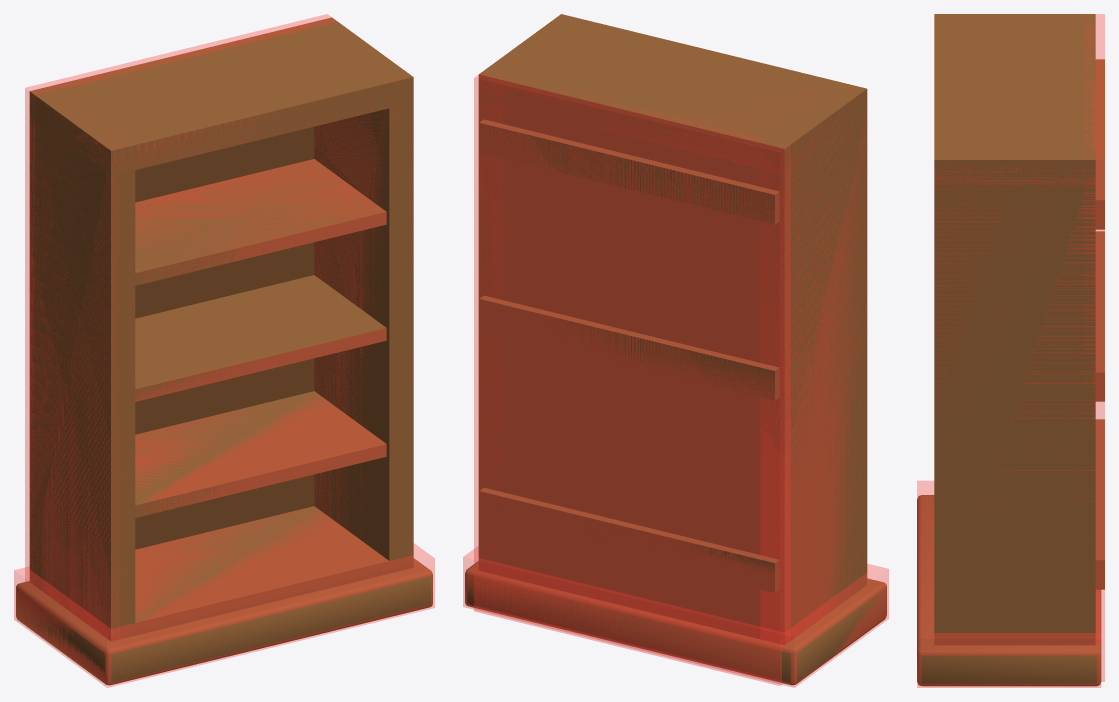
File: BookshelfS05.glb
3 views of the same model, side by side, from view 1: azimuth 30°, elevation 25°; view 2: azimuth 150°, elevation 25°; view 3: azimuth 270°, elevation 25° (orthographic). The views are drawn at different scales.
Parts seen in each view (by area): view 1: Body_Wood, Col_Base, Body_BackInside, Col_SideLeft, Col_Shelf1, Col_Shelf3, Col_SideRight, Col_Back, Col_Shelf2, Col_Top; view 2: Body_Wood, Col_Back, Col_SideLeft, Col_Base; view 3: Body_Wood, Col_Base, Col_Back, Col_SideRight, Col_Top.
Boxes of the visible parts, x1,y1,x2,y2 form: Body_Wood: [16, 17, 432, 685]; Col_Base: [14, 508, 434, 687]; Body_BackInside: [135, 126, 314, 549]; Col_SideLeft: [30, 87, 126, 640]; Col_Shelf1: [135, 394, 386, 516]; Col_Shelf3: [135, 159, 386, 281]; Col_SideRight: [314, 108, 398, 525]; Col_Back: [25, 14, 337, 581]; Col_Shelf2: [135, 328, 386, 401]; Col_Top: [43, 83, 389, 174]; Body_Wood: [465, 14, 886, 685]; Col_Back: [474, 74, 790, 685]; Col_SideLeft: [760, 117, 866, 640]; Col_Base: [463, 546, 888, 687]; Body_Wood: [917, 14, 1104, 686]; Col_Base: [917, 481, 1100, 687]; Col_Back: [1084, 14, 1104, 681]; Col_SideRight: [934, 183, 1095, 496]; Col_Top: [934, 163, 1094, 184].
Bounding box in the file's own units: 3.25 × 5 × 1.63.
